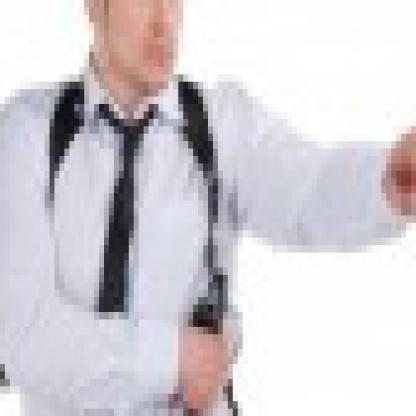gun: (158, 252, 262, 408)
